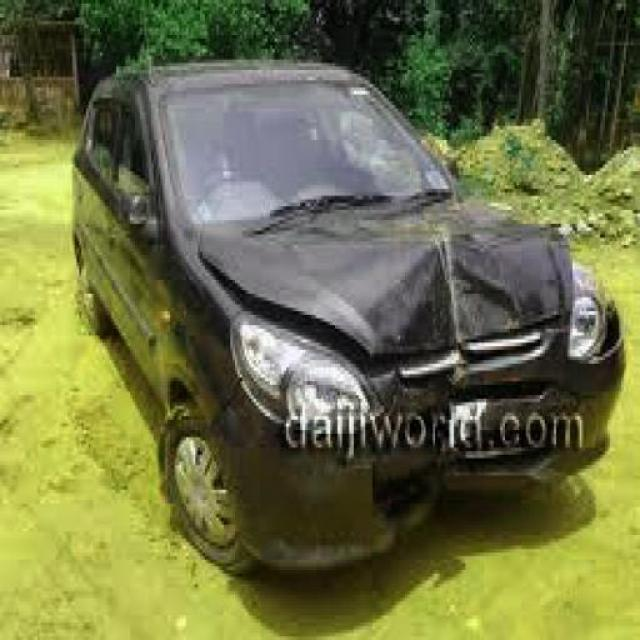car damage: (170, 240, 622, 578)
